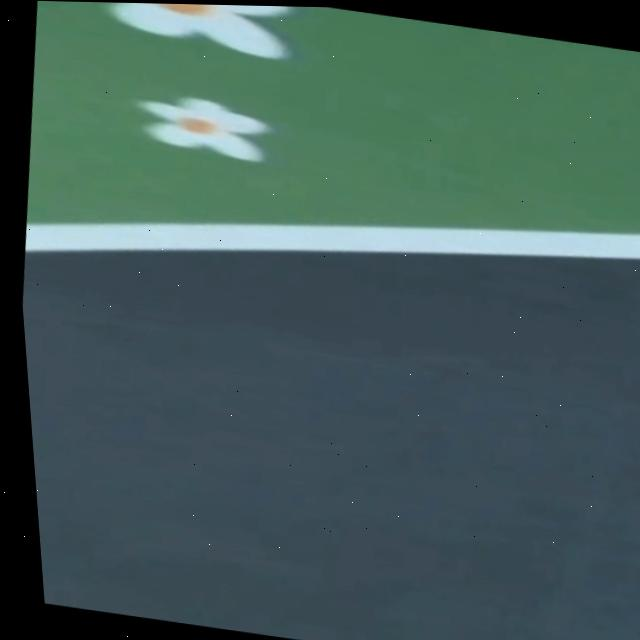right: (25, 223, 640, 258)
